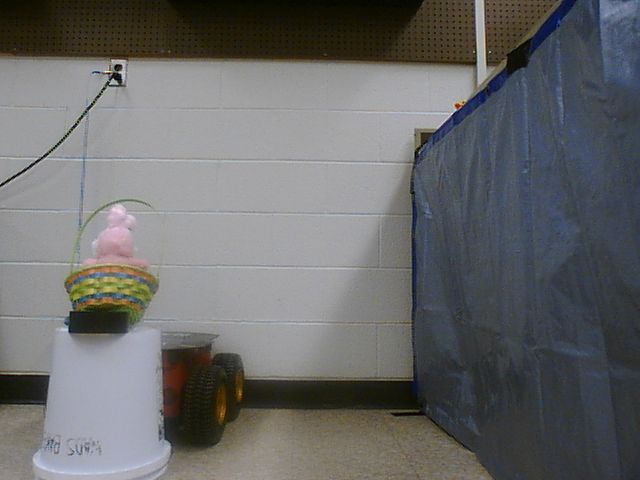bunny: (67, 199, 165, 330)
